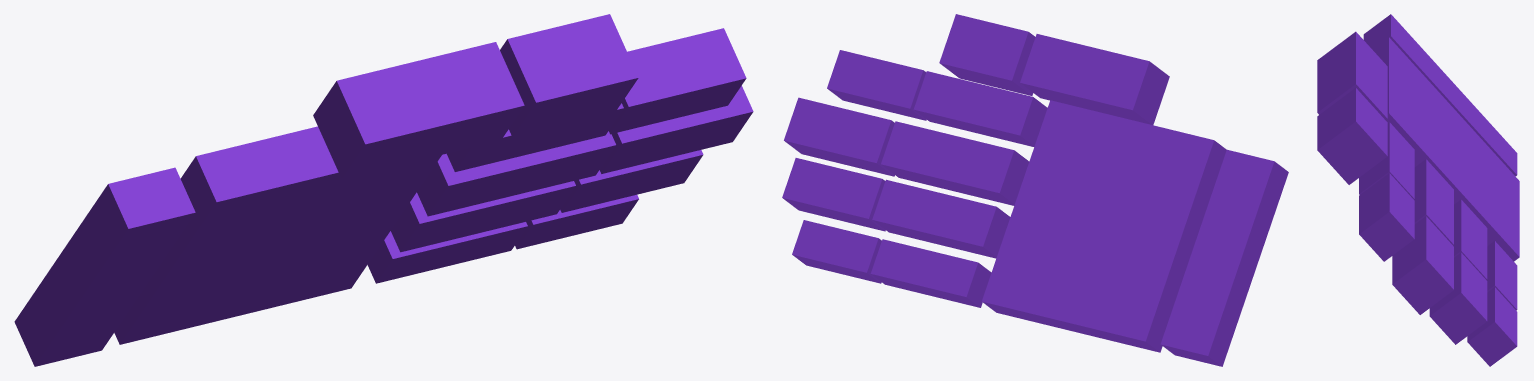
File: hand3(1).fbx
The picture shows the model from 3 angles, left to right: view 1: azimuth 30°, elevation 25°; view 2: azimuth 150°, elevation 25°; view 3: azimuth 270°, elevation 25°; orthographic projection. The views are drawn at different scales.
Parts seen in each view (by area): view 1: Cube.008, Cube.011, Cube.009, Cube.010, Cube.006, Cube, Cube.003, Cube.001, Cube.004, Cube.002, Cube.007, Cube.005; view 2: Cube.008, Cube.009, Cube.011, Cube, Cube.003, Cube.007, Cube.001, Cube.010, Cube.004, Cube.002, Cube.006, Cube.005; view 3: Cube.008, Cube.010, Cube.001, Cube.011, Cube.009, Cube.006, Cube.002, Cube.005, Cube, Cube.007, Cube.003, Cube.004.
Boxes of the visible parts, bbox=[...] form: Cube.008: bbox=[114, 126, 441, 344]; Cube.011: bbox=[313, 42, 524, 178]; Cube.009: bbox=[14, 167, 195, 366]; Cube.010: bbox=[500, 14, 638, 137]; Cube.006: bbox=[609, 28, 746, 134]; Cube: bbox=[417, 131, 615, 216]; Cube.003: bbox=[390, 181, 575, 252]; Cube.001: bbox=[599, 85, 753, 173]; Cube.004: bbox=[367, 222, 527, 283]; Cube.002: bbox=[560, 150, 703, 212]; Cube.007: bbox=[447, 103, 623, 171]; Cube.005: bbox=[515, 194, 638, 249]; Cube.008: bbox=[982, 100, 1226, 352]; Cube.009: bbox=[1160, 149, 1288, 366]; Cube.011: bbox=[1020, 34, 1169, 124]; Cube: bbox=[881, 121, 1029, 205]; Cube.003: bbox=[872, 179, 1010, 258]; Cube.007: bbox=[913, 71, 1047, 146]; Cube.001: bbox=[784, 97, 894, 176]; Cube.010: bbox=[939, 14, 1035, 95]; Cube.004: bbox=[870, 239, 991, 307]; Cube.002: bbox=[782, 158, 885, 231]; Cube.006: bbox=[827, 50, 926, 120]; Cube.005: bbox=[792, 220, 881, 283]; Cube.008: bbox=[1372, 37, 1519, 261]; Cube.010: bbox=[1317, 88, 1387, 184]; Cube.001: bbox=[1392, 216, 1453, 314]; Cube.011: bbox=[1317, 31, 1387, 120]; Cube.009: bbox=[1363, 14, 1517, 176]; Cube.006: bbox=[1359, 173, 1414, 261]; Cube.002: bbox=[1429, 252, 1487, 344]; Cube.005: bbox=[1467, 287, 1517, 366]; Cube: bbox=[1414, 159, 1453, 245]; Cube.007: bbox=[1359, 122, 1414, 199]; Cube.003: bbox=[1453, 199, 1487, 279]; Cube.004: bbox=[1486, 241, 1517, 310].
Bounding box in the file's own units: 422 × 193 × 170.
